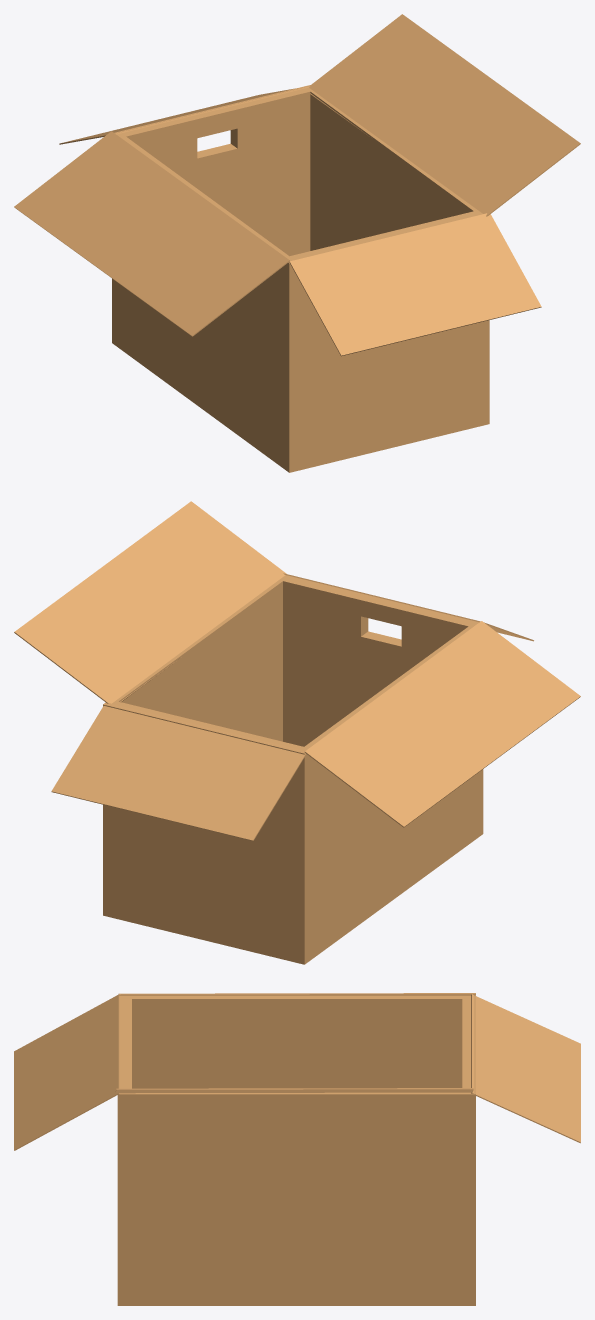
File: Cardboardbox.fbx
3 views of the same model, one above another, from view 1: azimuth 30°, elevation 25°; view 2: azimuth 150°, elevation 25°; view 3: azimuth 270°, elevation 25° (orthographic).
Parts seen in each view (by area): view 1: Cube; view 2: Cube; view 3: Cube.
Boxes of the visible parts, x1,y1,x2,y2 form: Cube: (14, 14, 580, 472); Cube: (14, 501, 580, 964); Cube: (14, 993, 580, 1305).
Bounding box in the file's own units: 389 × 247 × 485.
